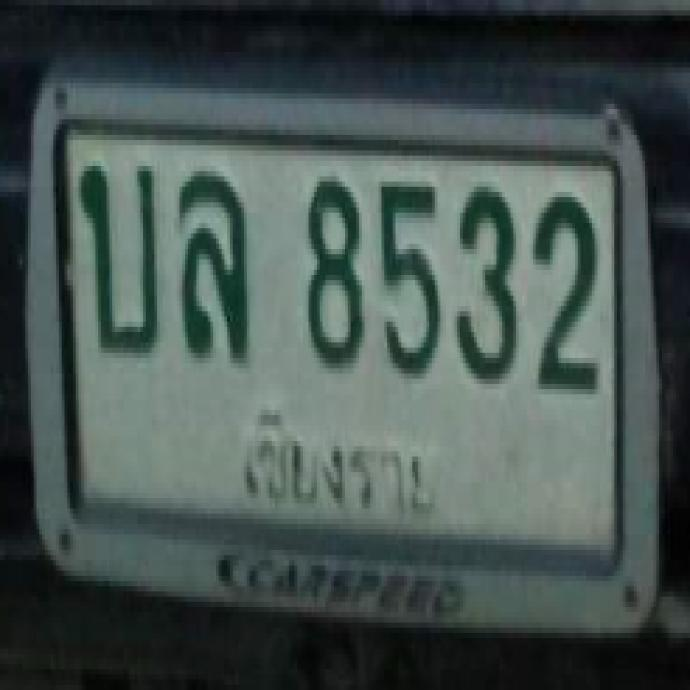2: (531, 190, 594, 385)
3: (452, 182, 513, 378)
5: (377, 175, 437, 372)
8: (304, 173, 360, 363)
A26: (79, 159, 155, 349)
A36: (175, 167, 245, 356)
CRI: (234, 400, 442, 524)
